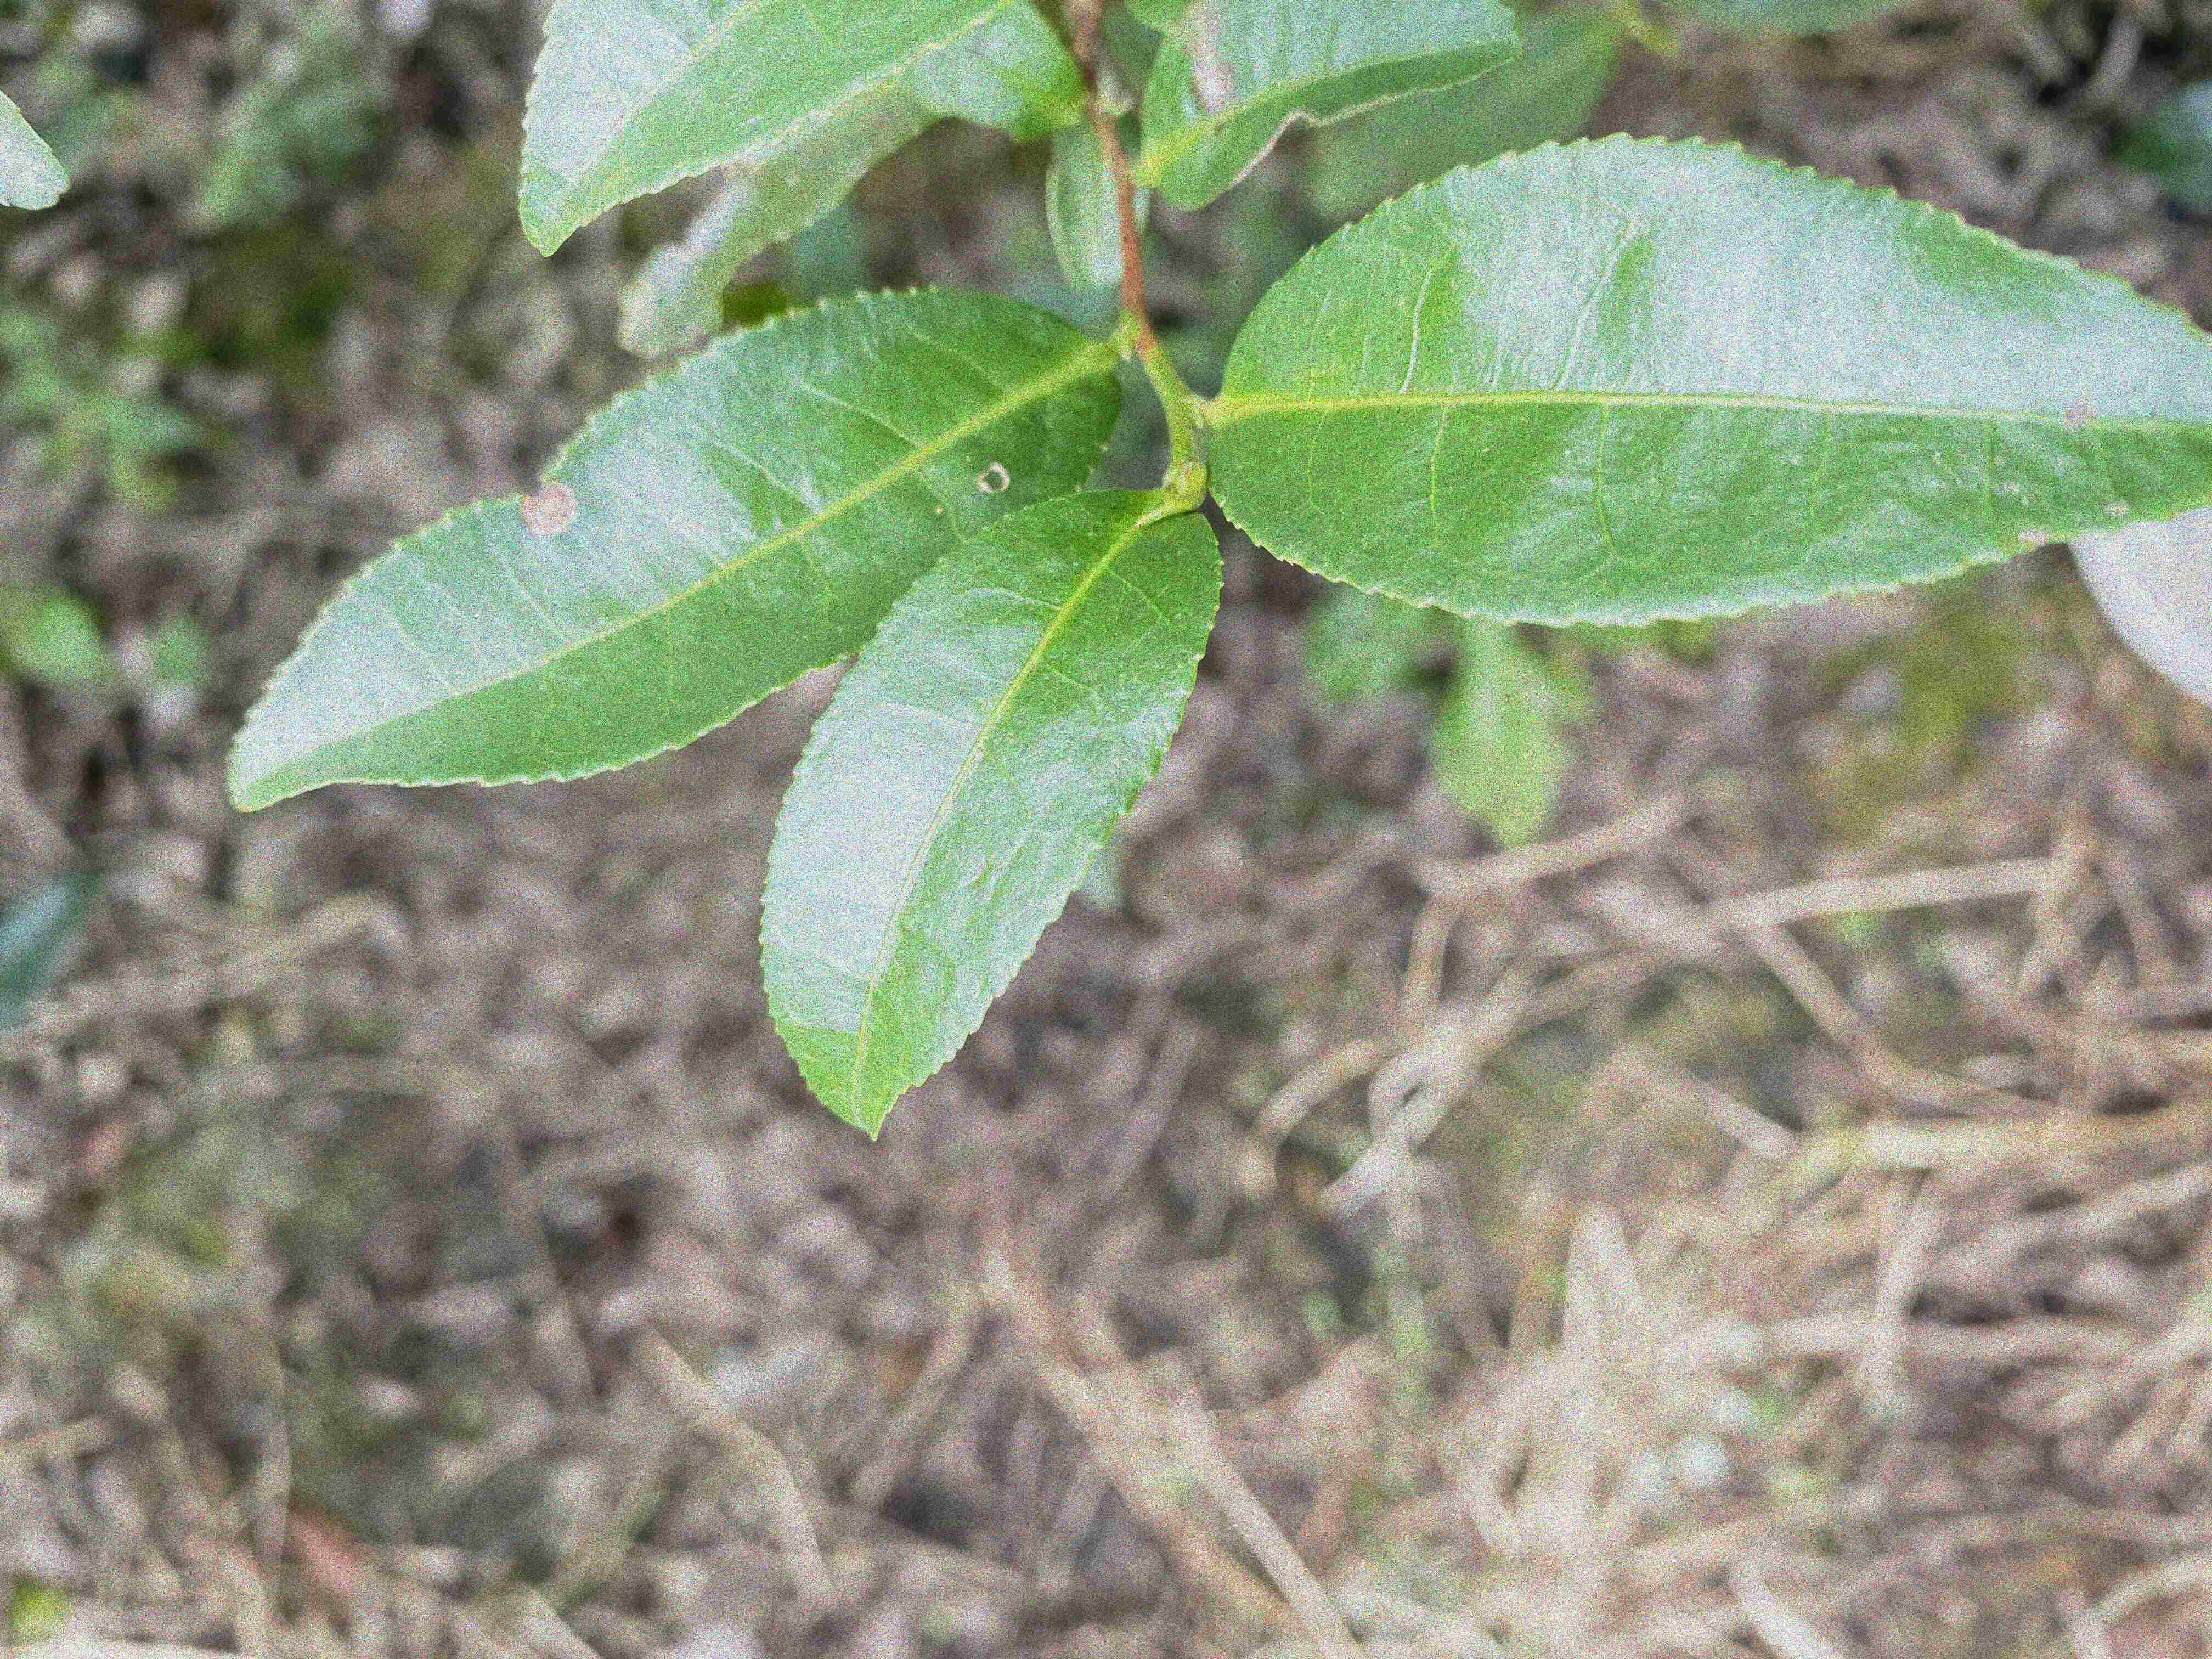healthy: (759, 488, 1226, 1145), (519, 0, 1017, 260)
tanju_high: (1130, 5, 1521, 211)
tanju_low: (1209, 129, 2203, 629)
